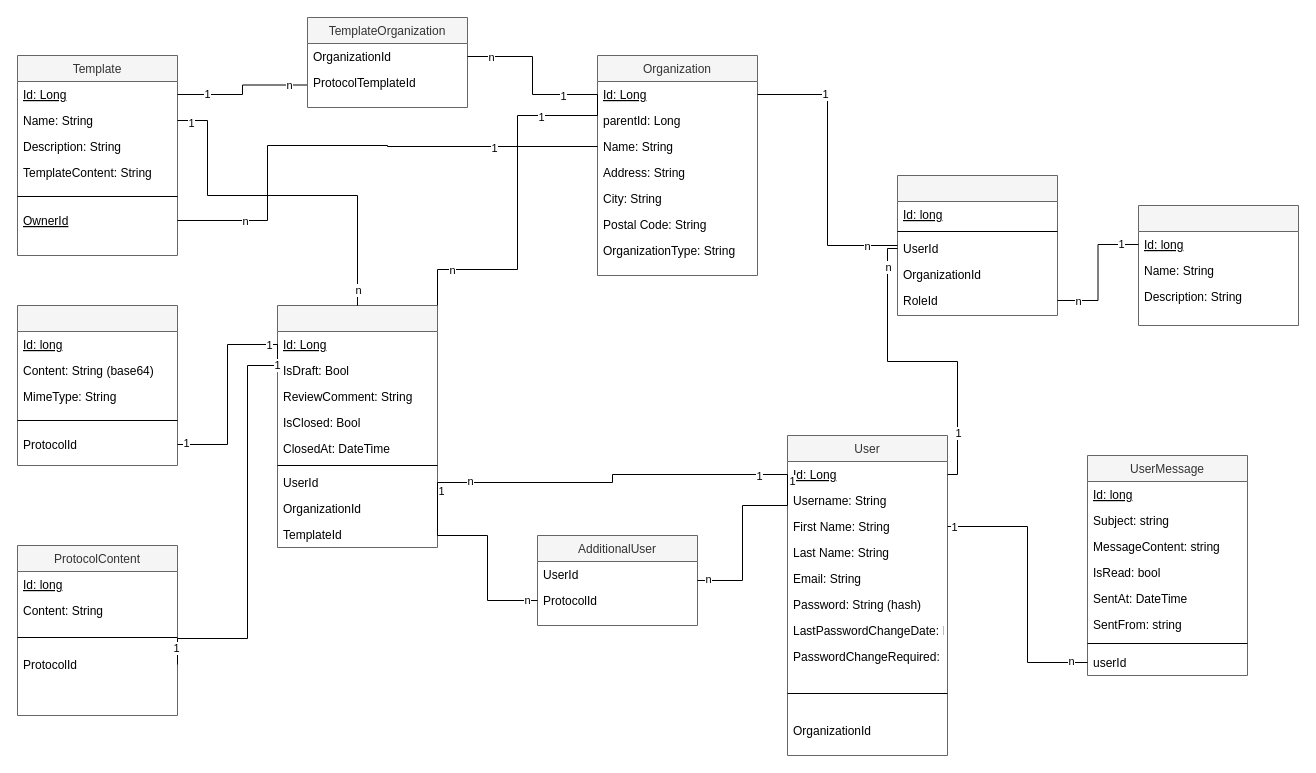
Image size: 1316x773. Some labels were removed from this diagram. The box of each missing label's shape, as (x1, y1, x2, y2) in pixels:
Protocol: (276, 304, 438, 548)
ProtocolPdfFile: (16, 304, 178, 466)
Role: (1138, 204, 1298, 326)
UserOrganizationRole: (896, 174, 1058, 316)
